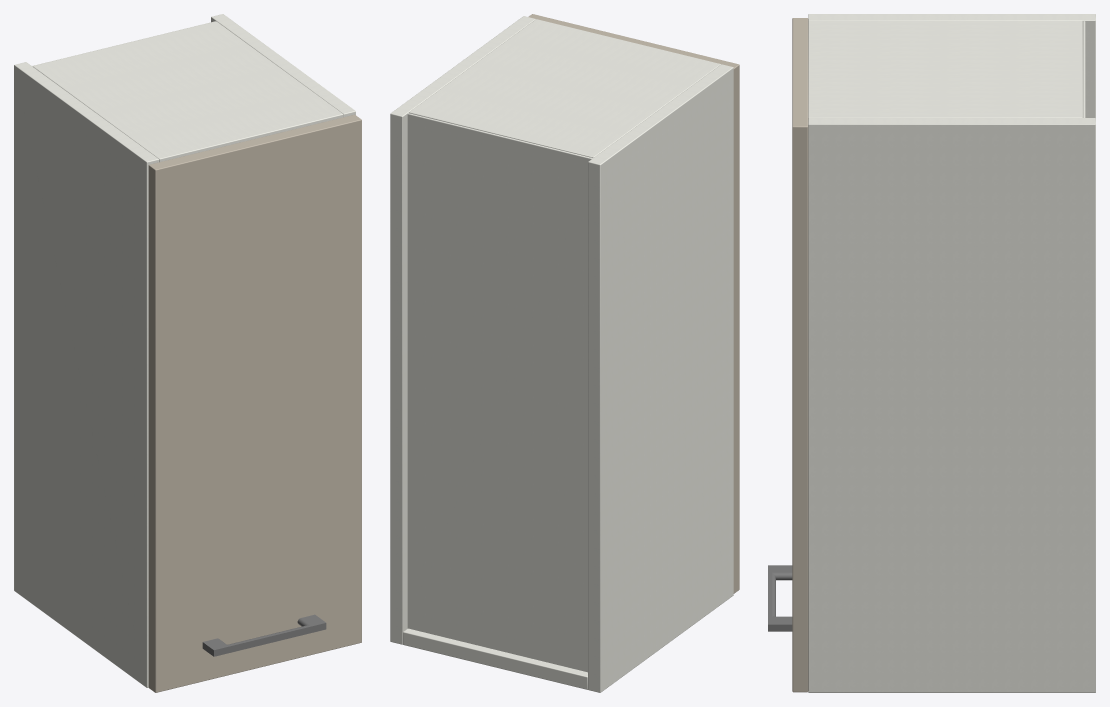
3 views of the same model, side by side, from view 1: azimuth 30°, elevation 25°; view 2: azimuth 150°, elevation 25°; view 3: azimuth 270°, elevation 25° (orthographic). The views are drawn at different scales.
Visible parts, largest first — view 1: v1, STRANICA LEVA, VEZNA PREDNJA, STRANICA DESNA, Union; view 2: LEĐA, STRANICA LEVA, VEZNA PREDNJA, STRANICA DESNA, v1, POD; view 3: STRANICA DESNA, VEZNA PREDNJA, v1, STRANICA LEVA, Union.
Part boxes in pixels (x1,y1,x2,y2): v1: (148,114,361,692); STRANICA LEVA: (14,62,158,687); VEZNA PREDNJA: (33,21,343,162); STRANICA DESNA: (211,14,355,116); Union: (202,614,326,656); LEĐA: (407,113,592,672); STRANICA LEVA: (588,64,733,692); VEZNA PREDNJA: (409,19,720,157); STRANICA DESNA: (390,16,535,644); v1: (528,14,739,593); POD: (403,628,587,689); STRANICA DESNA: (808,118,1095,692); VEZNA PREDNJA: (808,20,1082,117); v1: (792,18,808,692); STRANICA LEVA: (808,14,1095,117); Union: (768,565,792,631).
Size of the model in its own units: 0.3 by 0.72 by 0.376.
Materials: 3 (2 with a texture image).
